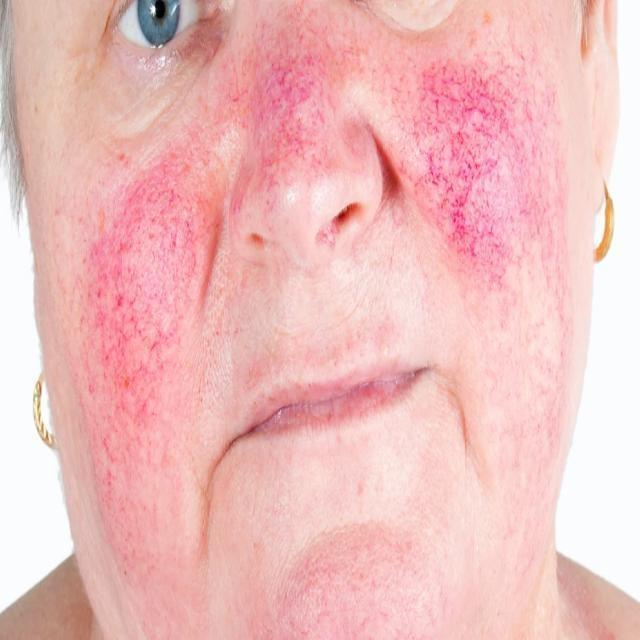Rosacea: (83, 152, 212, 486), (233, 44, 389, 268), (408, 55, 546, 269), (259, 525, 460, 636)
